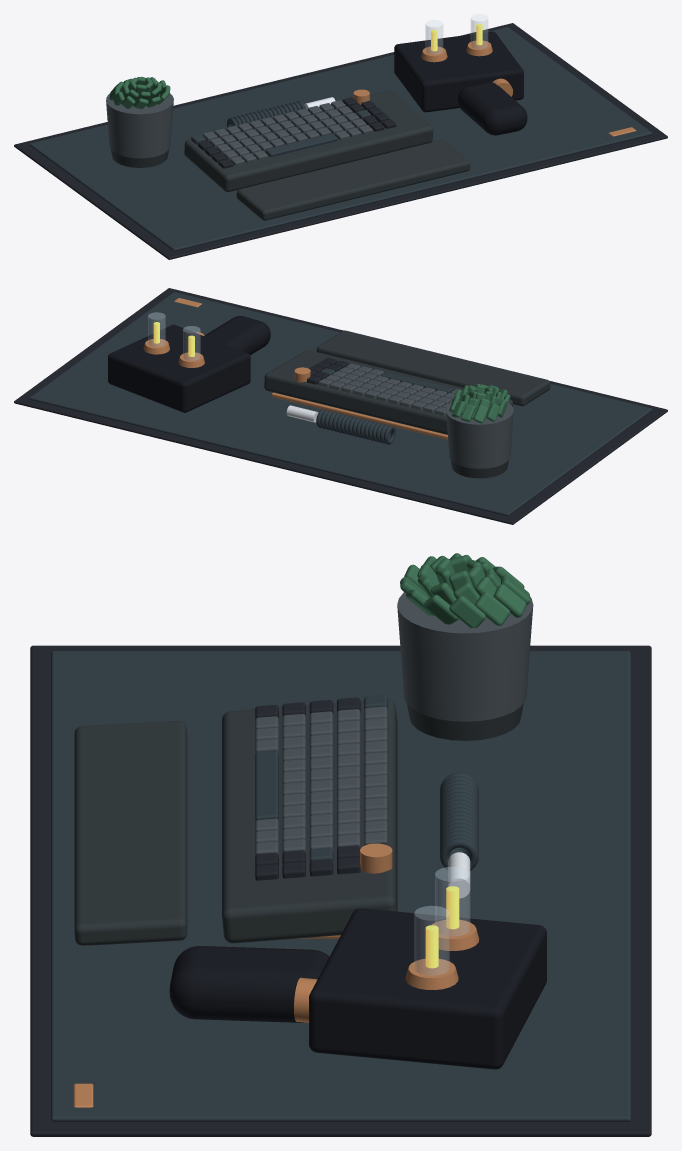
File: atelier-decor-mechanical-obsidian.glb
3 views of the same model, one above another, from view 1: azimuth 30°, elevation 25°; view 2: azimuth 150°, elevation 25°; view 3: azimuth 270°, elevation 25° (orthographic). The views are drawn at different scales.
Bounding box in the file's own units: 0.78 × 0.1226 × 0.4201.
